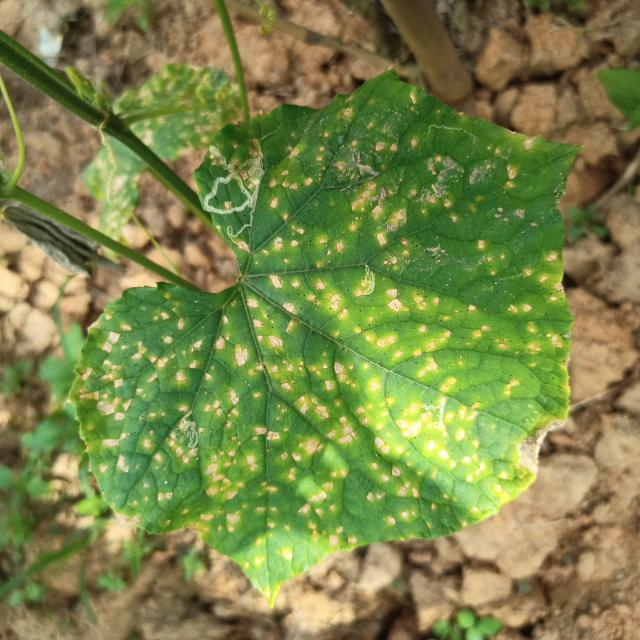disease_cucumber: (97, 132, 556, 566)
